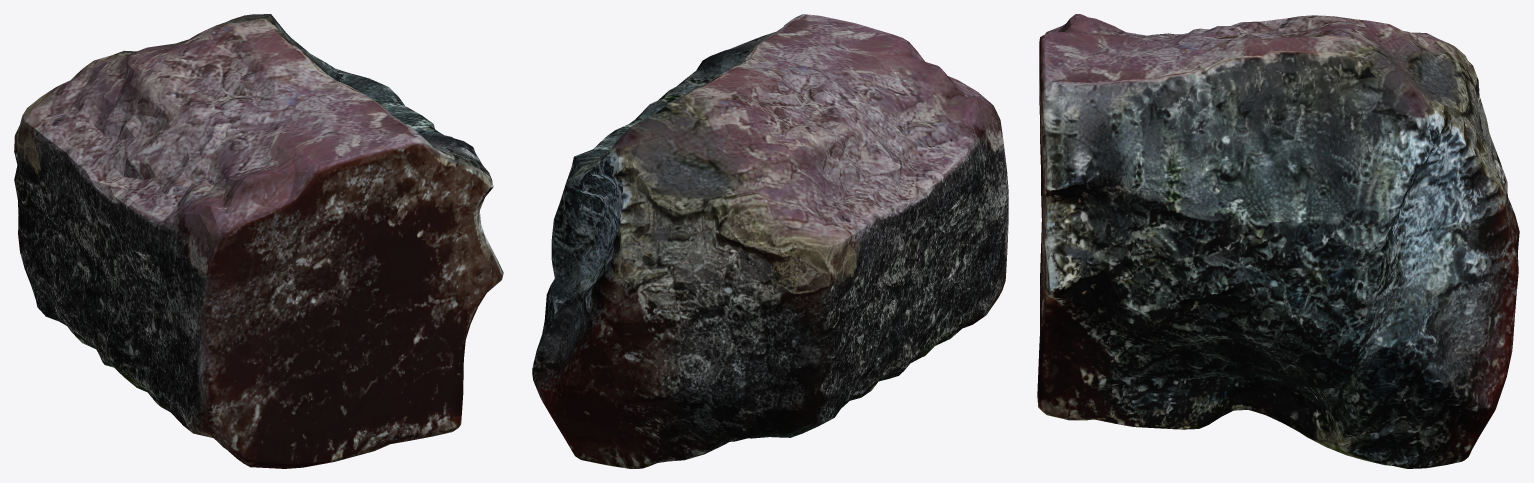
File: orthopyroxene_001.glb
The picture shows the model from 3 angles, left to right: view 1: azimuth 30°, elevation 25°; view 2: azimuth 150°, elevation 25°; view 3: azimuth 270°, elevation 25°; orthographic projection. The views are drawn at different scales.
Parts seen in each view (by area): view 1: tripo_node_56688b14-f4c5-4a9a-ac52-e05034658072; view 2: tripo_node_56688b14-f4c5-4a9a-ac52-e05034658072; view 3: tripo_node_56688b14-f4c5-4a9a-ac52-e05034658072.
Part boxes in pixels (bbox=[...]): tripo_node_56688b14-f4c5-4a9a-ac52-e05034658072: bbox=[14, 14, 503, 468]; tripo_node_56688b14-f4c5-4a9a-ac52-e05034658072: bbox=[532, 14, 1008, 468]; tripo_node_56688b14-f4c5-4a9a-ac52-e05034658072: bbox=[1037, 14, 1519, 468].
Size of the model in its own units: 0.8105 by 0.8288 by 0.9477.
1 material, 1 textured.
